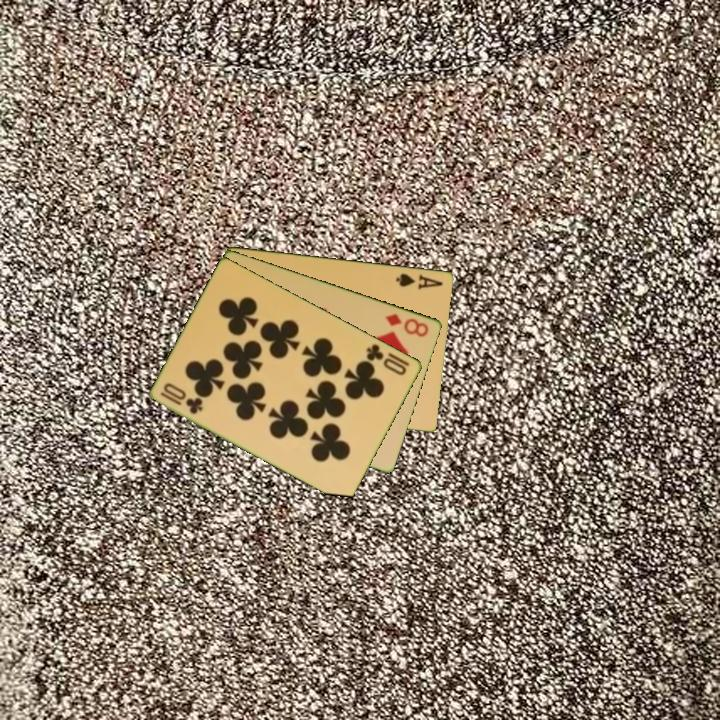10c: (363, 340, 410, 378), (157, 388, 206, 417)
8d: (382, 310, 432, 340)
As: (393, 270, 446, 292)
